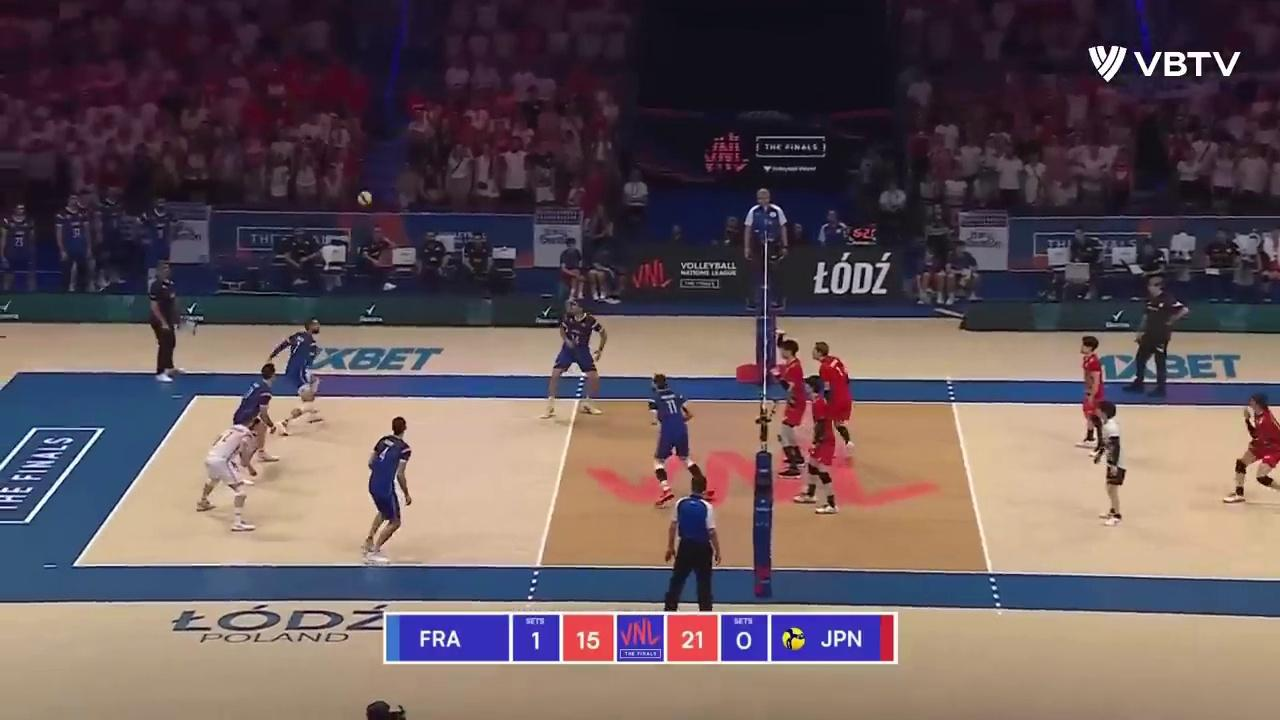ball: (359, 191, 372, 205)
